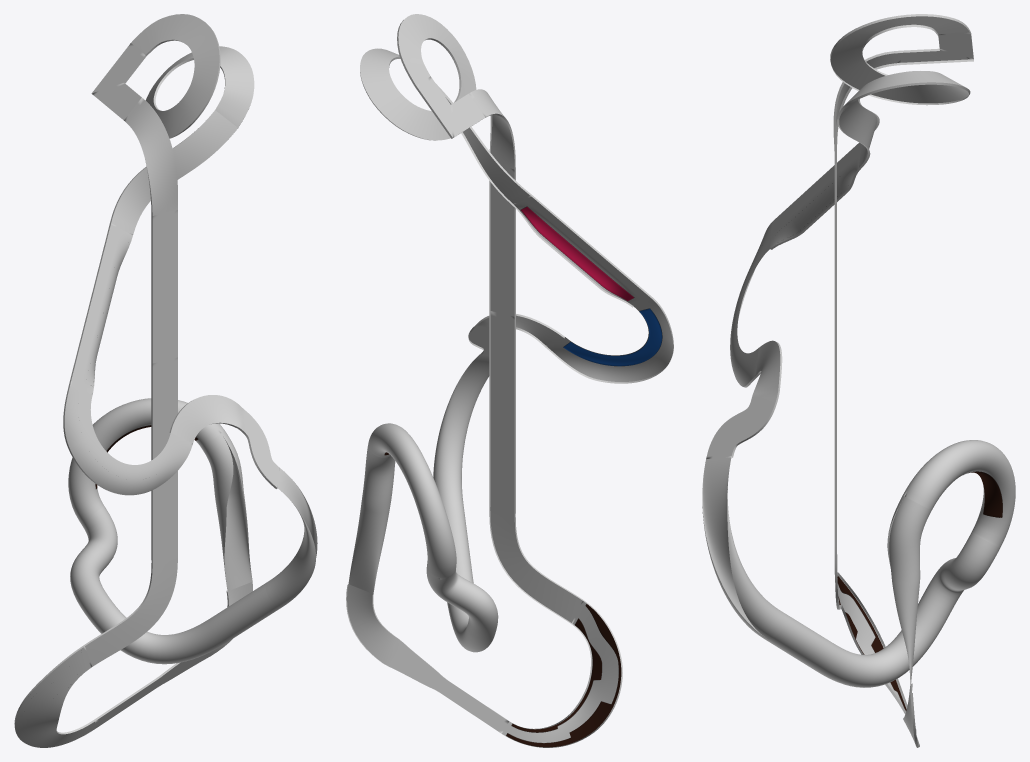
File: track.obj
3 views of the same model, side by side, from view 1: azimuth 30°, elevation 25°; view 2: azimuth 150°, elevation 25°; view 3: azimuth 270°, elevation 25° (orthographic). The views are drawn at different scales.
Visible parts, largest first — view 1: MXTRoadSegment.045_PreviewMesh, MXTRoadSegment.065_PreviewMesh, MXTRoadSegment.016_PreviewMesh, MXTRoadSegment.030_PreviewMesh, MXTRoadSegment.053_PreviewMesh, MXTRoadSegment.060_PreviewMesh, MXTRoadSegment.040_PreviewMesh, MXTRoadSegment.024_PreviewMesh, MXTRoadSegment.048_PreviewMesh, MXTRoadSegment.021_PreviewMesh, MXTRoadSegment.036_PreviewMesh, MXTRoadSegment.003_PreviewMesh (+4 smaller); view 2: MXTRoadSegment.065_PreviewMesh, MXTRoadSegment.016_PreviewMesh, MXTRoadSegment.060_PreviewMesh, MXTRoadSegment.048_PreviewMesh, MXTRoadSegment.057_PreviewMesh, MXTRoadSegment.045_PreviewMesh, MXTRoadSegment.030_PreviewMesh, MXTRoadSegment.024_PreviewMesh, MXTRoadSegment.053_PreviewMesh, MXTRoadSegment.001_PreviewMesh, MXTRoadSegment.040_PreviewMesh, MXTRoadSegment.021_PreviewMesh (+4 smaller); view 3: MXTRoadSegment.045_PreviewMesh, MXTRoadSegment.016_PreviewMesh, MXTRoadSegment.048_PreviewMesh, MXTRoadSegment.001_PreviewMesh, MXTRoadSegment.053_PreviewMesh, MXTRoadSegment.036_PreviewMesh, MXTRoadSegment.024_PreviewMesh, MXTRoadSegment.060_PreviewMesh, MXTRoadSegment.030_PreviewMesh, MXTRoadSegment.021_PreviewMesh, MXTRoadSegment.003_PreviewMesh, MXTRoadSegment.006_PreviewMesh (+2 smaller).
Boxes of the visible parts, <box> form: MXTRoadSegment.045_PreviewMesh: <box>70,506,281,664</box>; MXTRoadSegment.065_PreviewMesh: <box>84,357,177,666</box>; MXTRoadSegment.016_PreviewMesh: <box>131,14,254,138</box>; MXTRoadSegment.030_PreviewMesh: <box>63,384,192,495</box>; MXTRoadSegment.053_PreviewMesh: <box>200,430,252,591</box>; MXTRoadSegment.060_PreviewMesh: <box>14,645,95,747</box>; MXTRoadSegment.040_PreviewMesh: <box>151,210,177,363</box>; MXTRoadSegment.024_PreviewMesh: <box>69,224,132,394</box>; MXTRoadSegment.048_PreviewMesh: <box>68,398,224,522</box>; MXTRoadSegment.021_PreviewMesh: <box>109,110,237,234</box>; MXTRoadSegment.036_PreviewMesh: <box>169,395,279,488</box>; MXTRoadSegment.003_PreviewMesh: <box>124,98,177,215</box>; MXTRoadSegment.065_PreviewMesh: <box>489,311,582,623</box>; MXTRoadSegment.016_PreviewMesh: <box>360,14,476,140</box>; MXTRoadSegment.060_PreviewMesh: <box>502,600,622,747</box>; MXTRoadSegment.048_PreviewMesh: <box>368,423,456,578</box>; MXTRoadSegment.057_PreviewMesh: <box>346,584,509,733</box>; MXTRoadSegment.045_PreviewMesh: <box>426,499,498,652</box>; MXTRoadSegment.030_PreviewMesh: <box>545,298,673,383</box>; MXTRoadSegment.024_PreviewMesh: <box>513,196,652,307</box>; MXTRoadSegment.053_PreviewMesh: <box>348,443,395,593</box>; MXTRoadSegment.001_PreviewMesh: <box>433,354,489,502</box>; MXTRoadSegment.040_PreviewMesh: <box>489,166,515,317</box>; MXTRoadSegment.021_PreviewMesh: <box>436,84,532,205</box>; MXTRoadSegment.045_PreviewMesh: <box>759,533,999,687</box>; MXTRoadSegment.016_PreviewMesh: <box>830,14,971,119</box>; MXTRoadSegment.048_PreviewMesh: <box>902,440,1015,547</box>; MXTRoadSegment.001_PreviewMesh: <box>702,457,784,639</box>; MXTRoadSegment.053_PreviewMesh: <box>887,495,931,690</box>; MXTRoadSegment.036_PreviewMesh: <box>706,340,782,458</box>; MXTRoadSegment.024_PreviewMesh: <box>770,142,861,249</box>; MXTRoadSegment.060_PreviewMesh: <box>837,572,916,730</box>; MXTRoadSegment.030_PreviewMesh: <box>730,221,772,387</box>; MXTRoadSegment.021_PreviewMesh: <box>837,99,879,168</box>; MXTRoadSegment.003_PreviewMesh: <box>833,50,900,158</box>; MXTRoadSegment.006_PreviewMesh: <box>899,48,973,64</box>.
Bounding box in the file's own units: 913 × 2355 × 858.
